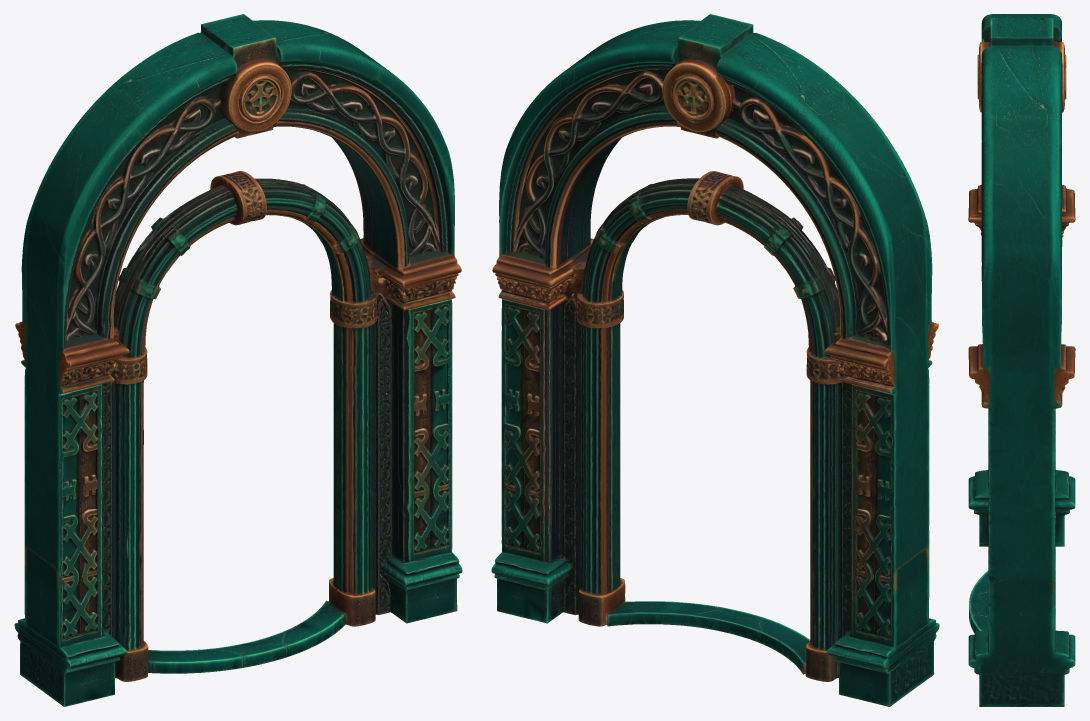
File: portal_hearth_draco.glb
3 renders of one model, left to right at view 1: azimuth 30°, elevation 25°; view 2: azimuth 150°, elevation 25°; view 3: azimuth 270°, elevation 25°, orthographic. The views are drawn at different scales.
Bounding box in the file's own units: 1.28 × 1.9 × 0.3141.
1 material, 1 textured.
